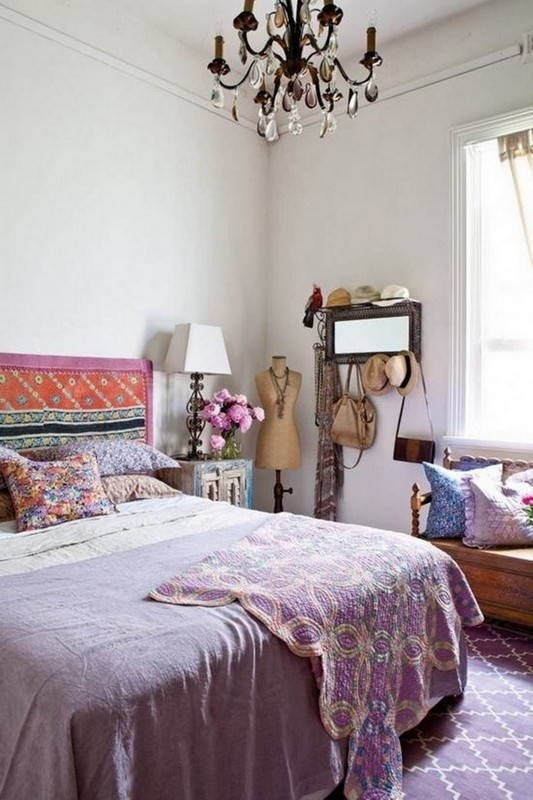bed: (7, 351, 476, 792)
lamp: (156, 304, 250, 475)
stool: (164, 440, 254, 515)
